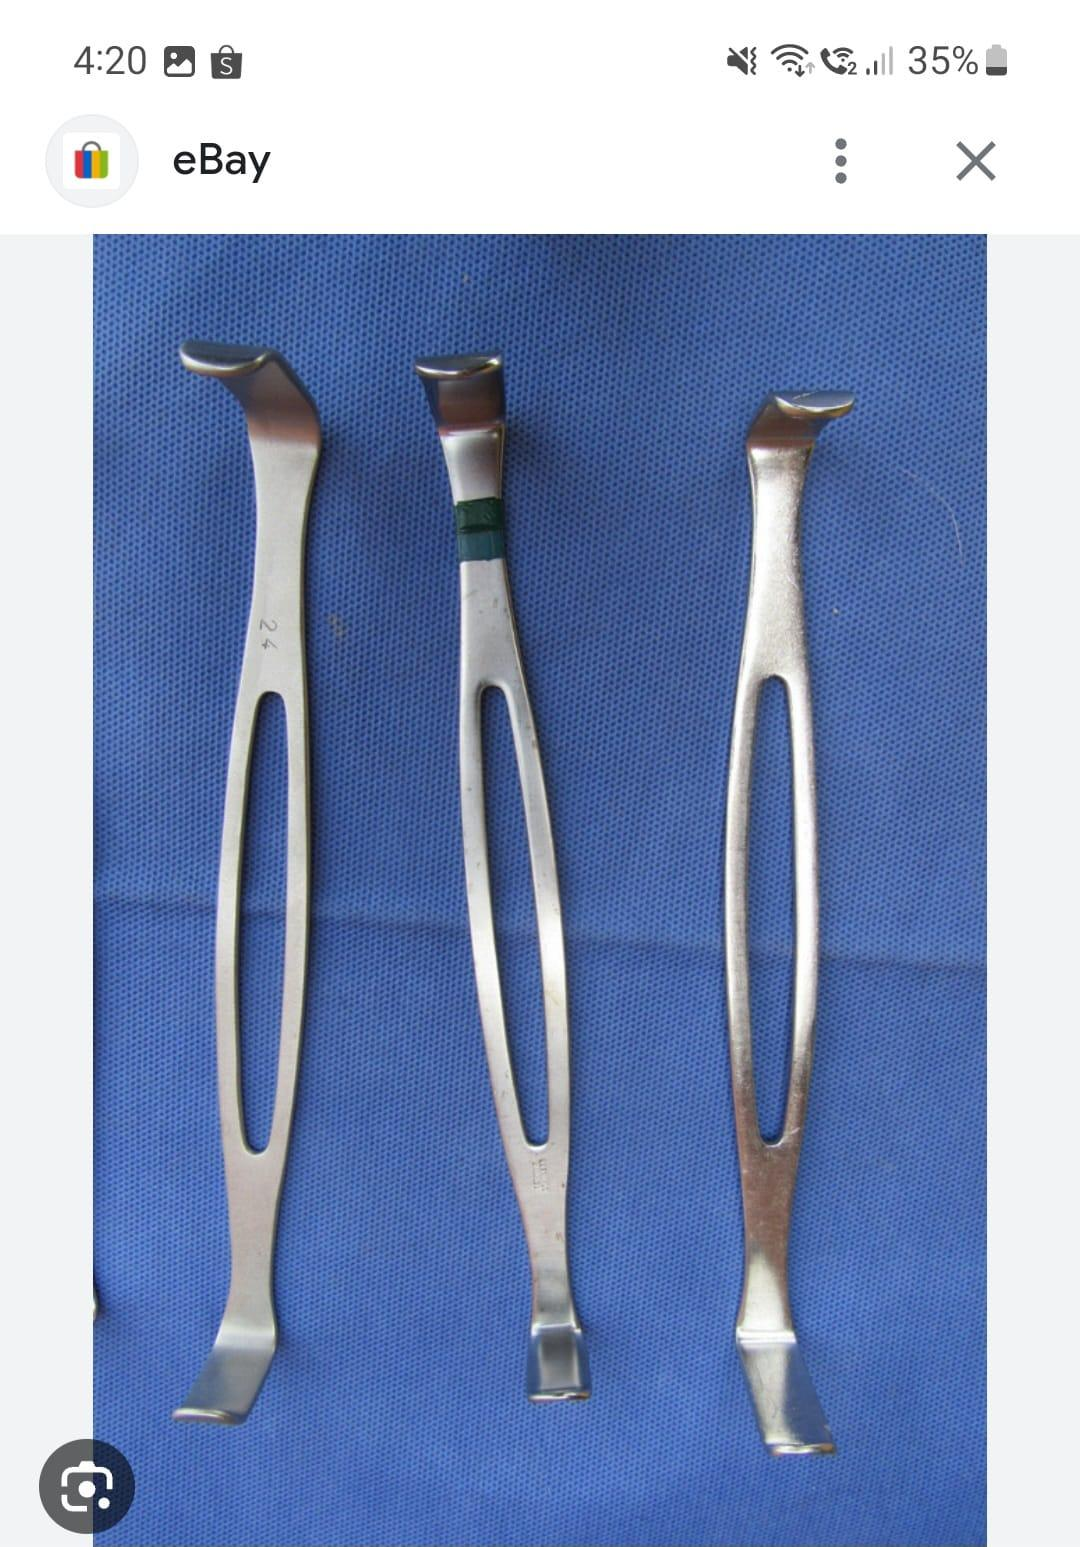Army Navy Retractor: (133, 315, 385, 1480), (400, 340, 650, 1405), (690, 370, 880, 1475)
